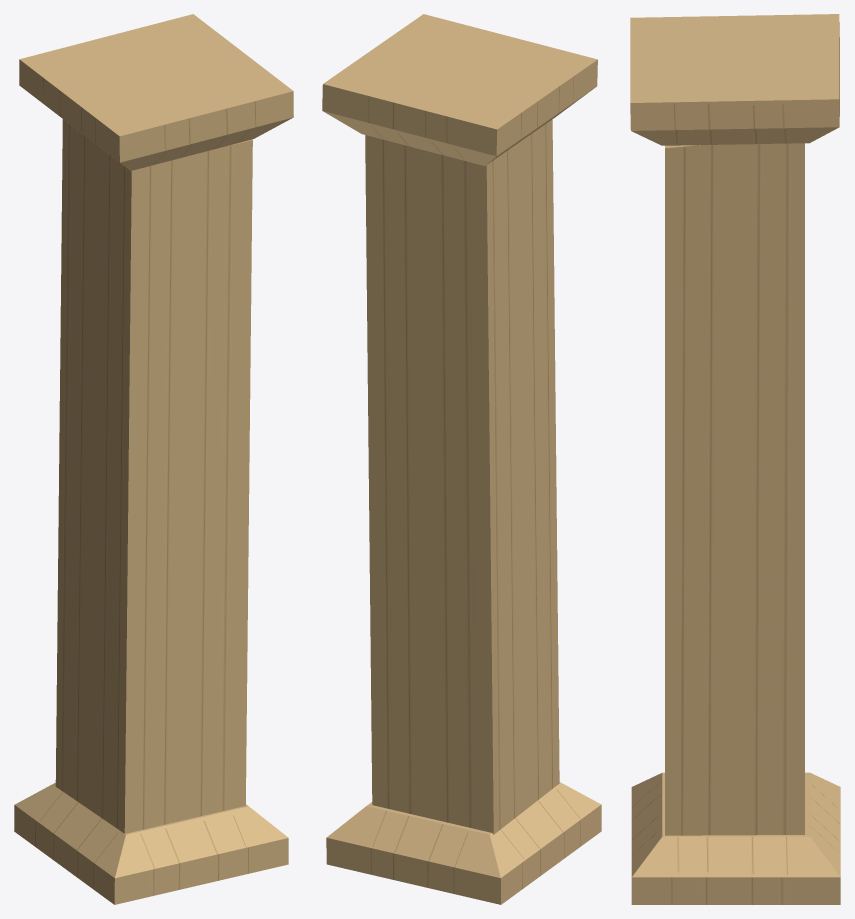
The model's file is sm_Pillar3.fbx.
3 renders of one model, left to right at view 1: azimuth 30°, elevation 25°; view 2: azimuth 150°, elevation 25°; view 3: azimuth 270°, elevation 25°, orthographic. The views are drawn at different scales.
Visible parts, largest first — view 1: polySurface25; view 2: polySurface25; view 3: polySurface25.
Boxes of the visible parts, bbox=[...] form: polySurface25: bbox=[14, 14, 293, 904]; polySurface25: bbox=[322, 14, 601, 904]; polySurface25: bbox=[630, 14, 840, 904].
Size of the model in its own units: 0.9771 by 4.05 by 0.957.
Materials: 1 (1 with a texture image).
